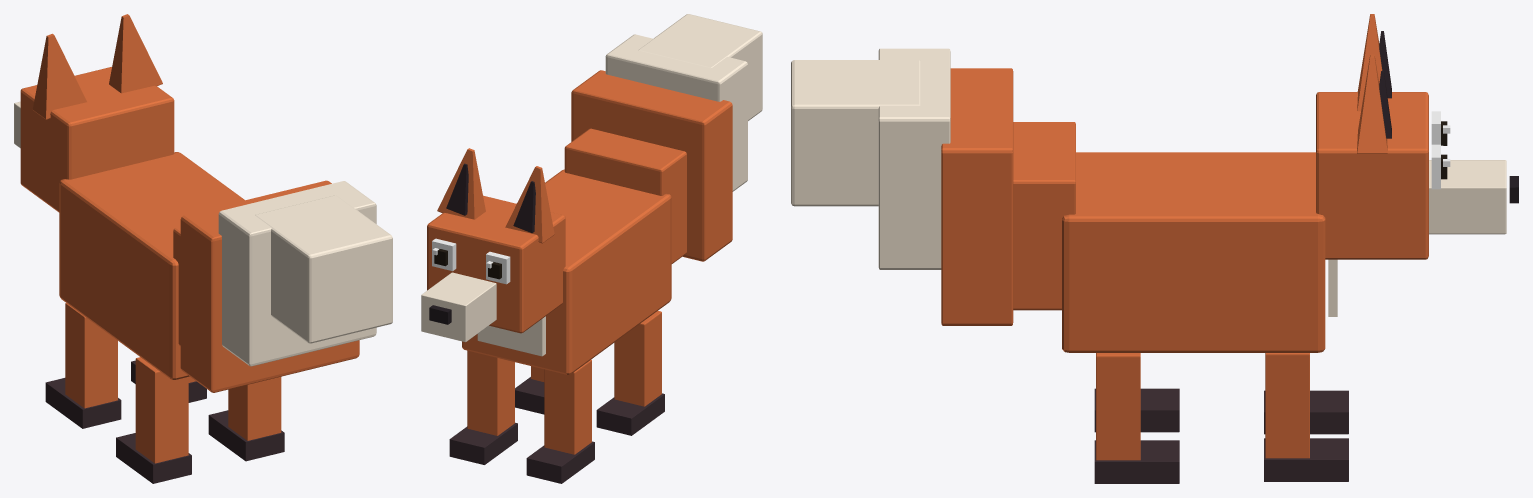
File: fox.glb
3 renders of one model, left to right at view 1: azimuth 30°, elevation 25°; view 2: azimuth 150°, elevation 25°; view 3: azimuth 270°, elevation 25°, orthographic. The views are drawn at different scales.
Visible parts, largest first — view 1: tail, body, head, leg.BR, leg.FR, leg.BL, ear.R, ear.L, leg.FL; view 2: tail, body, head, leg.FR, leg.BR, leg.FL, ear.R, ear.L, leg.BL; view 3: tail, body, head, leg.BL, leg.FL, ear.L, leg.BR, leg.FR, ear.R.
Part boxes in pixels (box(x1,y1,x2,y2)): tail: box(173, 180, 392, 392); body: box(59, 152, 244, 379); head: box(14, 67, 174, 212); leg.BR: box(116, 357, 191, 483); leg.FR: box(45, 303, 121, 428); leg.BL: box(208, 377, 284, 461); ear.R: box(32, 33, 87, 119); ear.L: box(109, 14, 162, 93); leg.FL: box(131, 360, 206, 402); tail: box(564, 14, 762, 263); body: box(462, 169, 671, 374); head: box(421, 195, 565, 342); leg.FR: box(526, 359, 594, 483); leg.BR: box(596, 311, 664, 435); leg.FL: box(449, 350, 517, 464); ear.R: box(505, 166, 554, 243); ear.L: box(437, 148, 485, 219); leg.BL: box(515, 366, 544, 414); tail: box(791, 48, 1075, 325); body: box(1062, 152, 1337, 352); head: box(1316, 92, 1518, 259); leg.BL: box(1094, 353, 1179, 483); leg.FL: box(1264, 353, 1348, 481); ear.L: box(1357, 54, 1391, 153); leg.BR: box(1094, 388, 1179, 432); leg.FR: box(1264, 390, 1348, 434); ear.R: box(1357, 14, 1391, 111).
Bounding box in the file's own units: 0.4329 × 0.9926 × 1.6.
